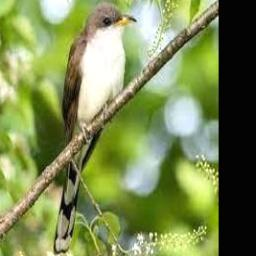Cuckoo: (53, 2, 136, 254)
